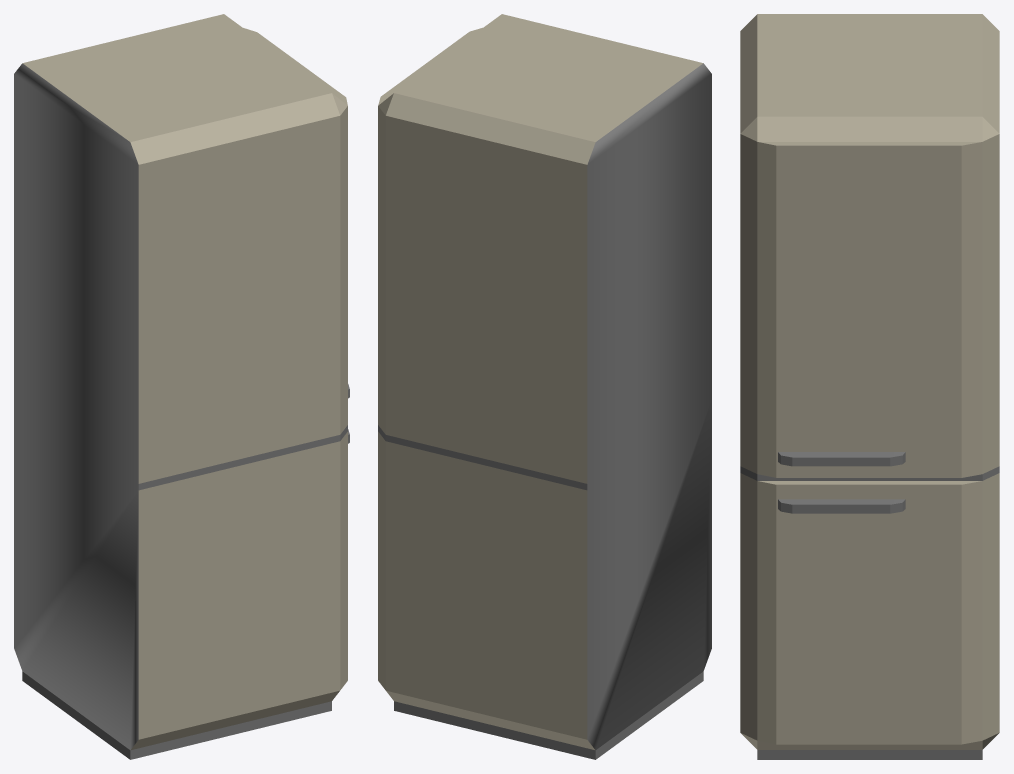
The model's file is S_Fridge.001.fbx.
3 renders of one model, left to right at view 1: azimuth 30°, elevation 25°; view 2: azimuth 150°, elevation 25°; view 3: azimuth 270°, elevation 25°, orthographic. The views are drawn at different scales.
Visible parts, largest first — view 1: S_Fridge.001; view 2: S_Fridge.001; view 3: S_Fridge.001.
Boxes of the visible parts, bbox=[...] form: S_Fridge.001: bbox=[14, 14, 349, 759]; S_Fridge.001: bbox=[378, 14, 711, 759]; S_Fridge.001: bbox=[740, 14, 999, 759].
Bounding box in the file's own units: 106 × 266 × 97.2.
